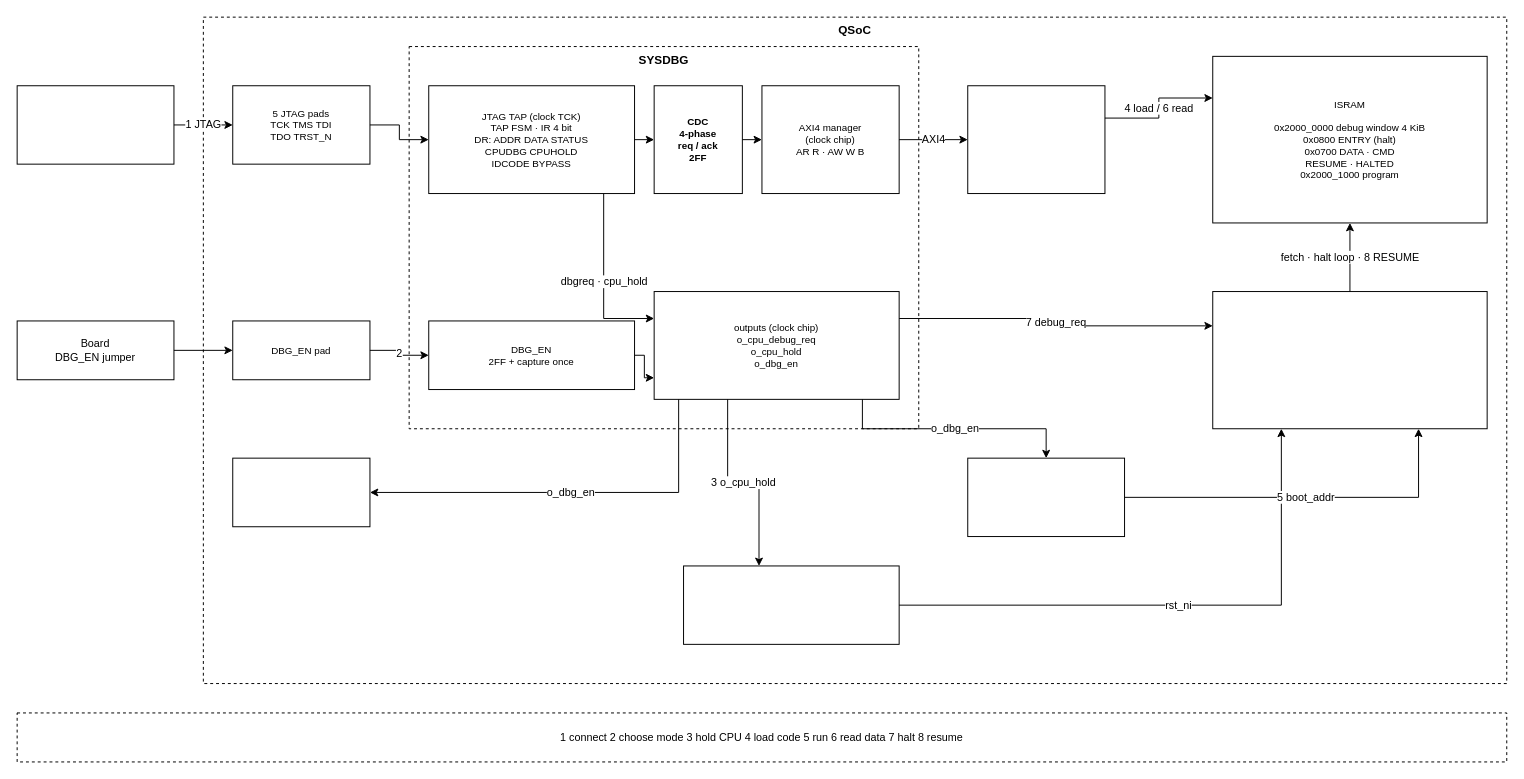
Image size: 1524x779. Some labels were removed from this diagram. The centre of each missing label's shape, as x and y in pixels:
boot_addr mux 0: 0x0000_0000 ROM 1: 0x2000_1000: (x=1046, y=497)
Host PC JTAG adapter: (x=95, y=124)
Ibex CPU halt: PC -> dpc, jump 0x2000_0800 resume: dret -> dpc: (x=1349, y=360)
IO MUX force JTAG pads: (x=301, y=492)
S_BUS AXI_S0: (x=1036, y=139)
SCRC CPU reset = SCRC OR hold (before synchroniser): (x=791, y=604)
